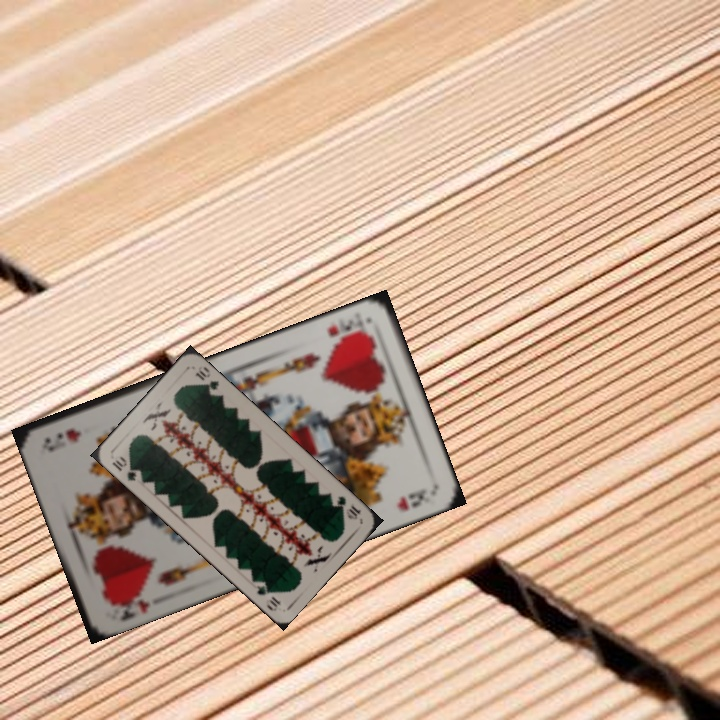G10: (327, 492, 363, 522), (108, 452, 140, 484)
HK: (106, 586, 152, 624), (323, 315, 365, 343)
